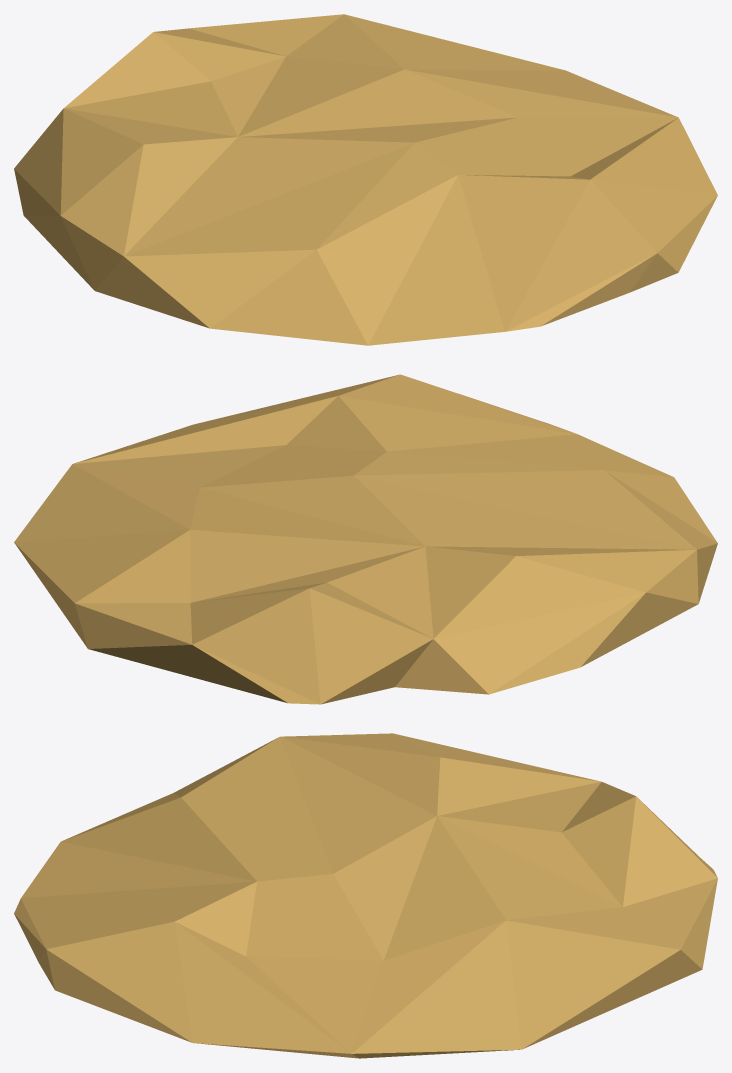
The model's file is SM_Prop_Plate_Large_Grain_03.glb.
3 renders of one model, top to bottom at view 1: azimuth 30°, elevation 25°; view 2: azimuth 150°, elevation 25°; view 3: azimuth 270°, elevation 25°, orthographic.
Parts seen in each view (by area): view 1: SM_Prop_Plate_Large_Grain_03; view 2: SM_Prop_Plate_Large_Grain_03; view 3: SM_Prop_Plate_Large_Grain_03.
Boxes of the visible parts, x1,y1,x2,y2 form: SM_Prop_Plate_Large_Grain_03: (14, 14, 717, 345); SM_Prop_Plate_Large_Grain_03: (14, 374, 717, 704); SM_Prop_Plate_Large_Grain_03: (14, 733, 717, 1058).
Size of the model in its own units: 1.1 by 0.1434 by 1.12.
Materials: 1 (1 with a texture image).
